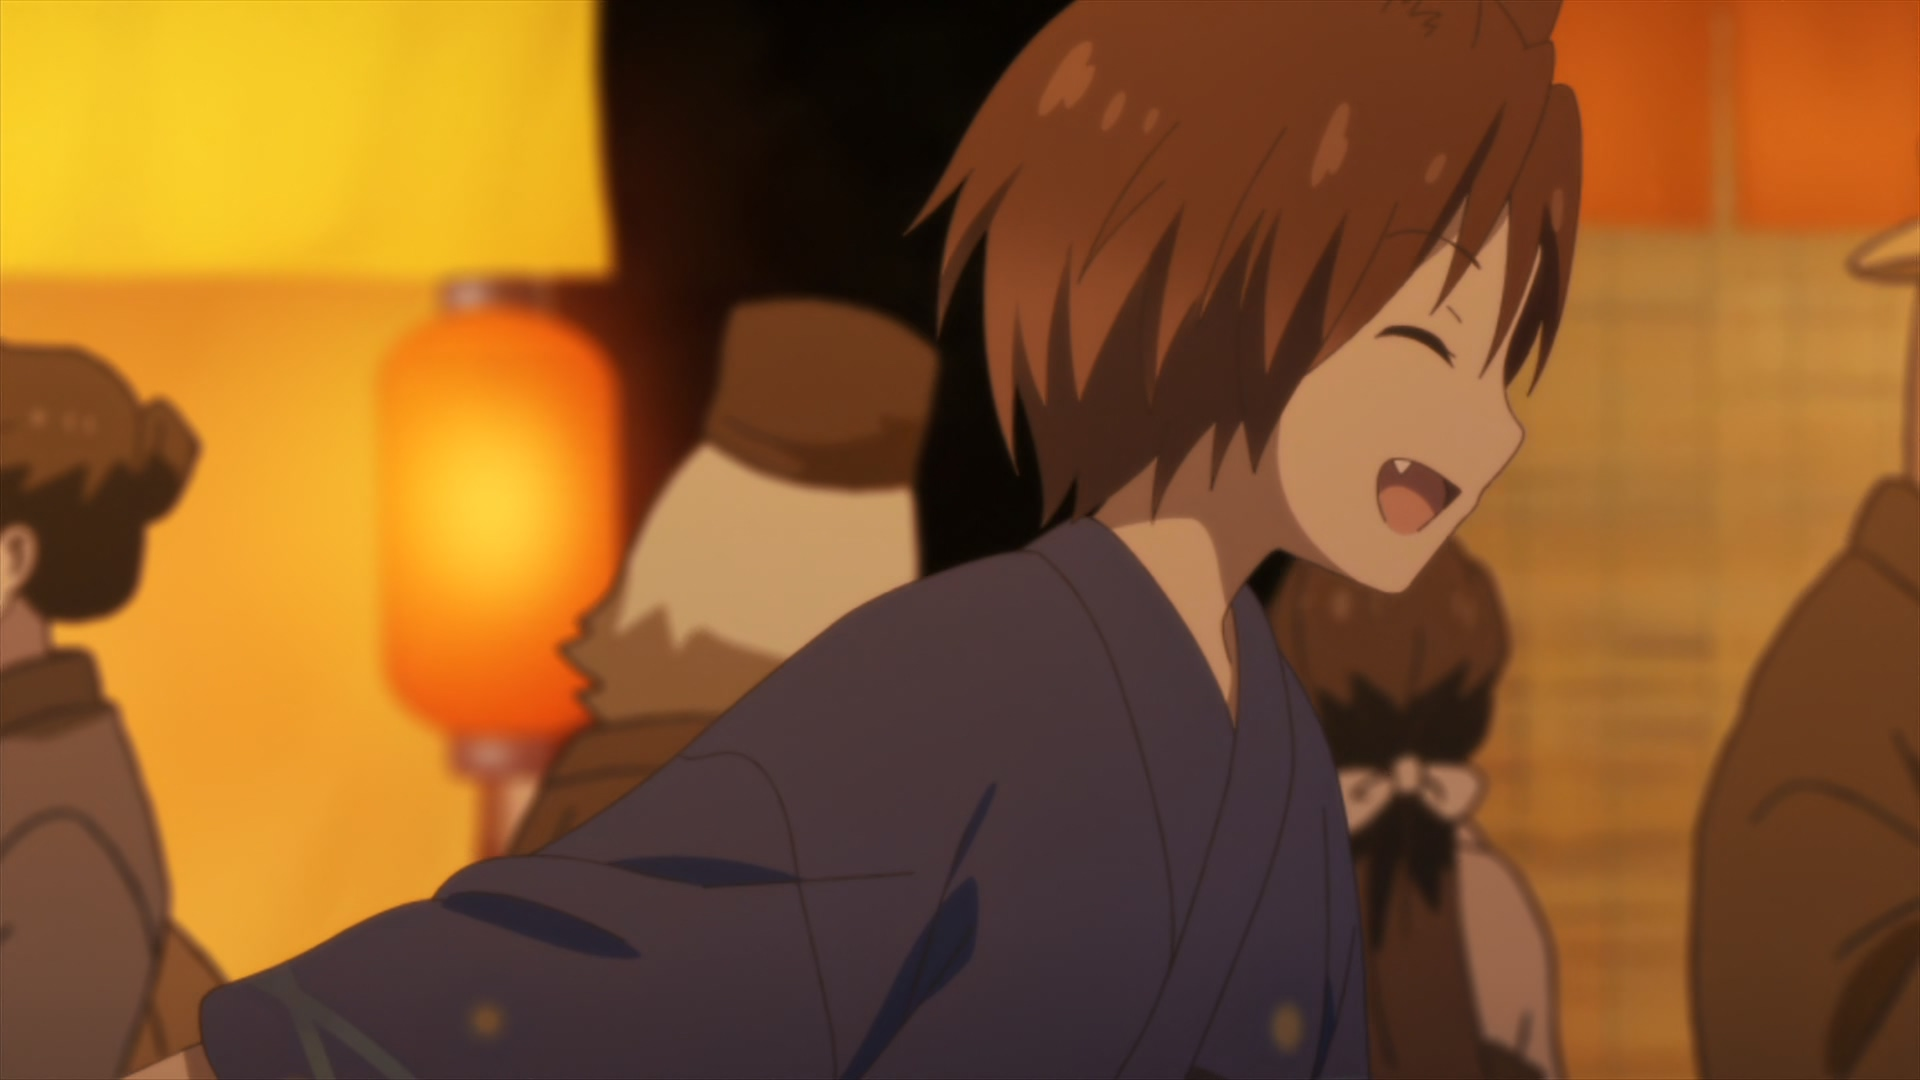其他: (505, 295, 936, 860), (1688, 215, 1920, 1080), (1270, 535, 1564, 1080), (1, 342, 200, 1080)
枣: (120, 1, 1584, 1080)
